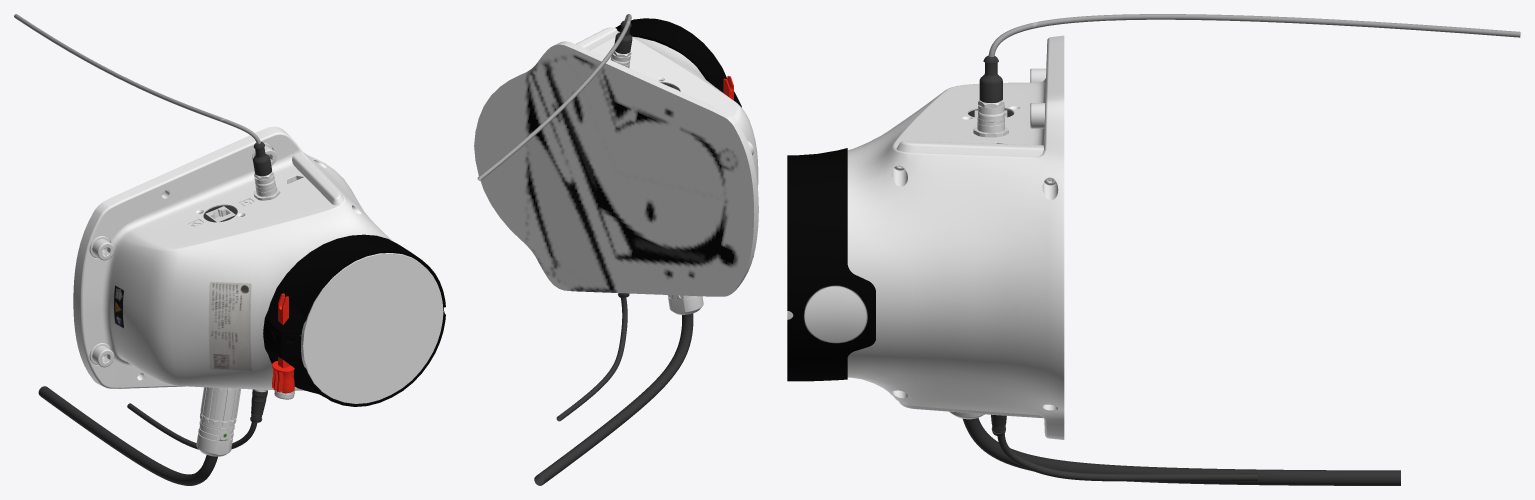
3 renders of one model, left to right at view 1: azimuth 30°, elevation 25°; view 2: azimuth 150°, elevation 25°; view 3: azimuth 270°, elevation 25°, orthographic. The views are drawn at different scales.
Visible parts, largest first — view 1: link0; view 2: link0; view 3: link0.
Part boxes in pixels (box(x1,y1,x2,y2)): link0: box(14, 14, 445, 485); link0: box(474, 14, 758, 485); link0: box(787, 14, 1520, 485).
Bounding box in the file's own units: 0.2256 × 0.2744 × 0.3707.
1 material, 1 textured.
